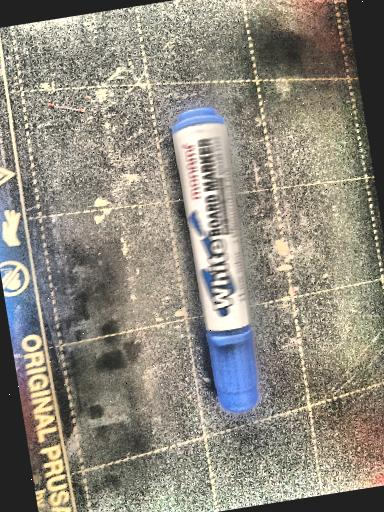marcador azul: (172, 107, 258, 412)
